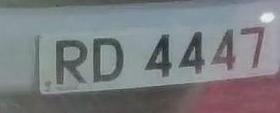4: (207, 23, 242, 80), (141, 29, 177, 83), (175, 27, 210, 77)
7: (237, 19, 272, 73)
D: (87, 32, 129, 87)
R: (50, 31, 89, 88)
